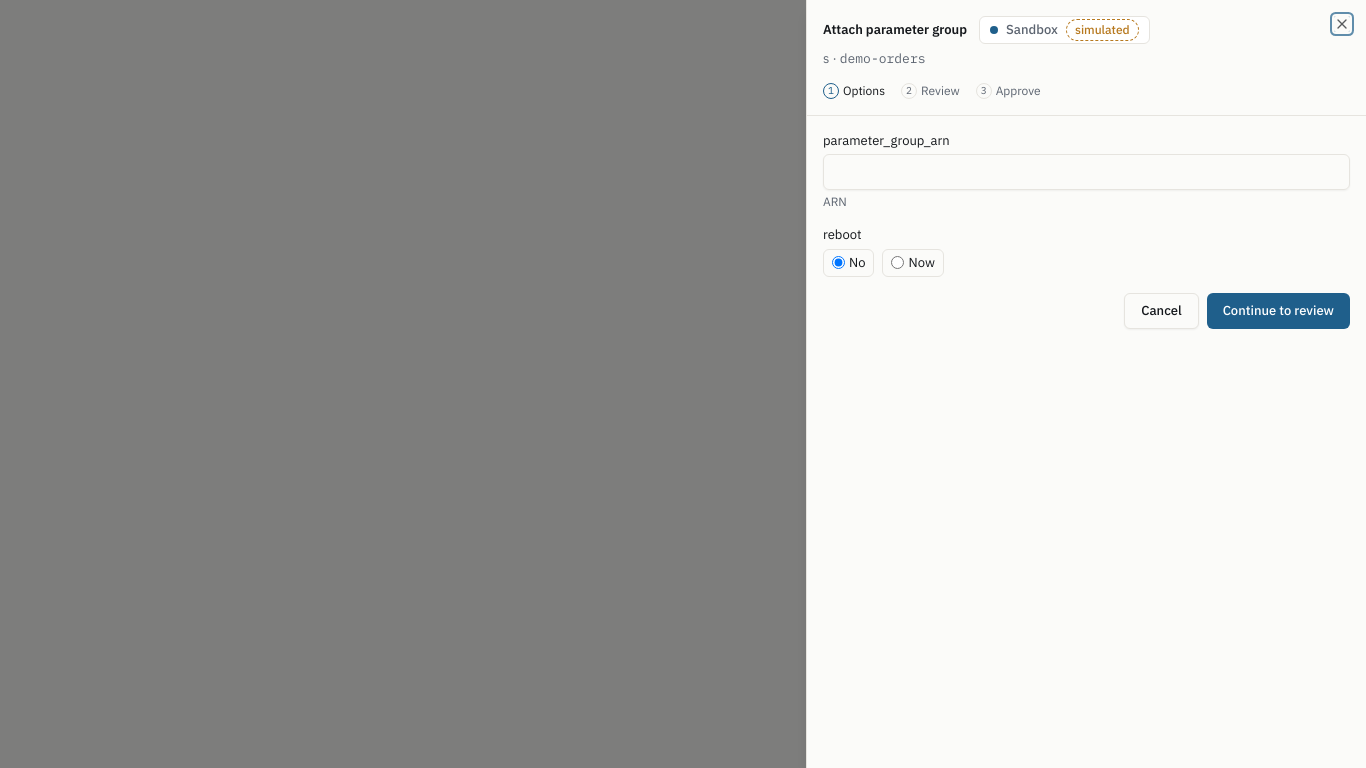
it: TaskPanel flows › shows the reason of a refusal that carries no problems
Expected: the dialog "Attach parameter group" is shown, [806,0,1365,767]
Click the button "Continue to review": click(1278, 311) [1207,293,1350,329]
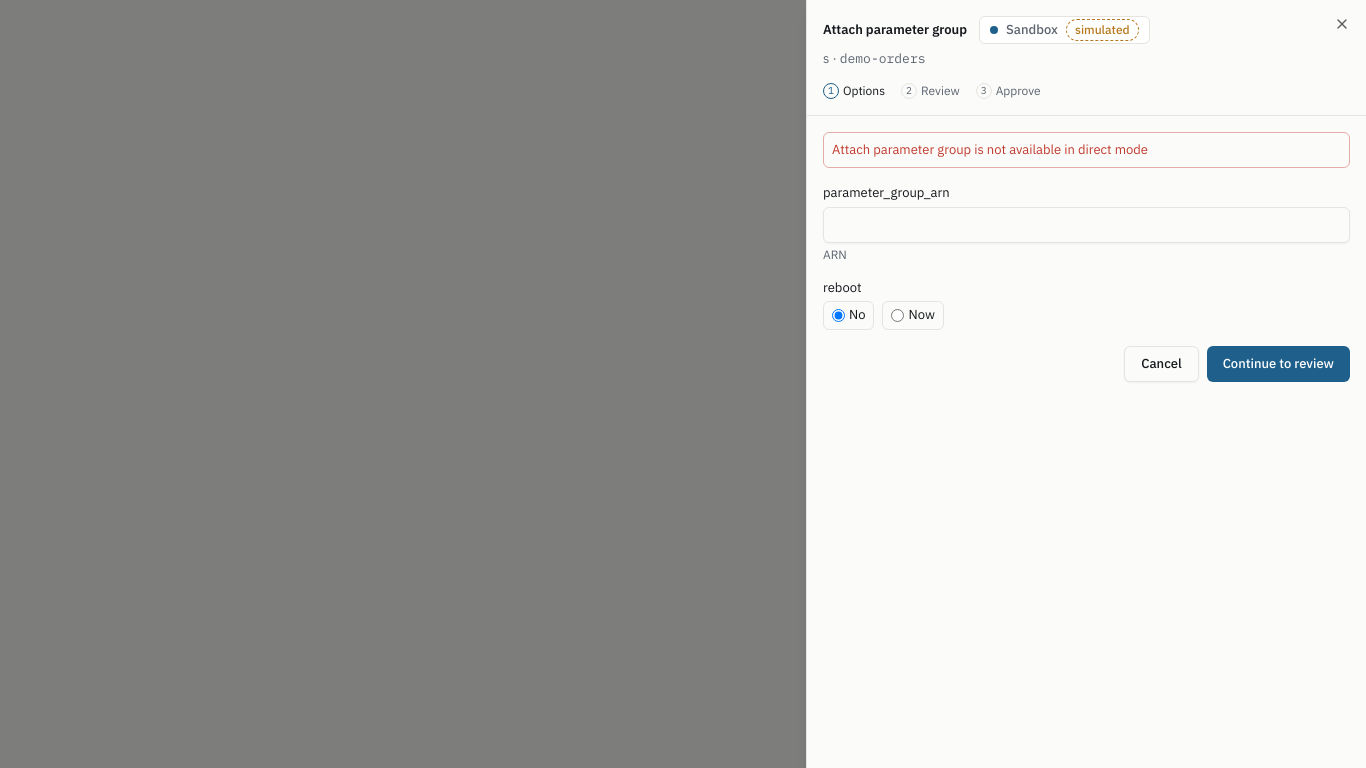
Now the list item "Attach parameter group is not available in direct mode" is shown, box [832,141,1148,158]
